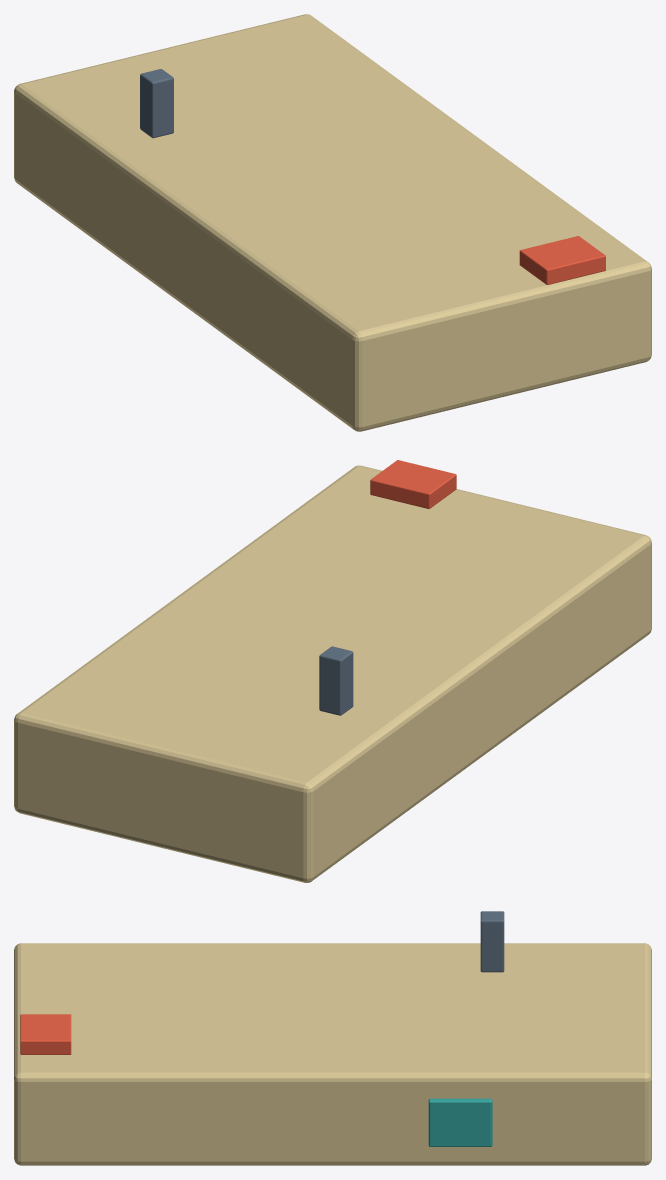
Rendered from probe.glb.
3 renders of one model, top to bottom at view 1: azimuth 30°, elevation 25°; view 2: azimuth 150°, elevation 25°; view 3: azimuth 270°, elevation 25°, orthographic. The views are drawn at different scales.
Parts seen in each view (by area): view 1: probe_body, probe_forward_minus_y, probe_up_plus_z; view 2: probe_body, probe_forward_minus_y, probe_up_plus_z; view 3: probe_body, probe_right_plus_x, probe_forward_minus_y, probe_up_plus_z.
Part boxes in pixels (<box>): probe_body: <box>14,14,651,431</box>; probe_forward_minus_y: <box>519,236,605,284</box>; probe_up_plus_z: <box>140,69,173,138</box>; probe_body: <box>14,465,651,882</box>; probe_forward_minus_y: <box>370,460,456,508</box>; probe_up_plus_z: <box>319,646,353,715</box>; probe_body: <box>14,943,651,1165</box>; probe_right_plus_x: <box>428,1098,492,1146</box>; probe_forward_minus_y: <box>20,1014,71,1054</box>; probe_up_plus_z: <box>480,911,504,972</box>.
Bounding box in the file's own units: 2.04 × 1 × 4.
